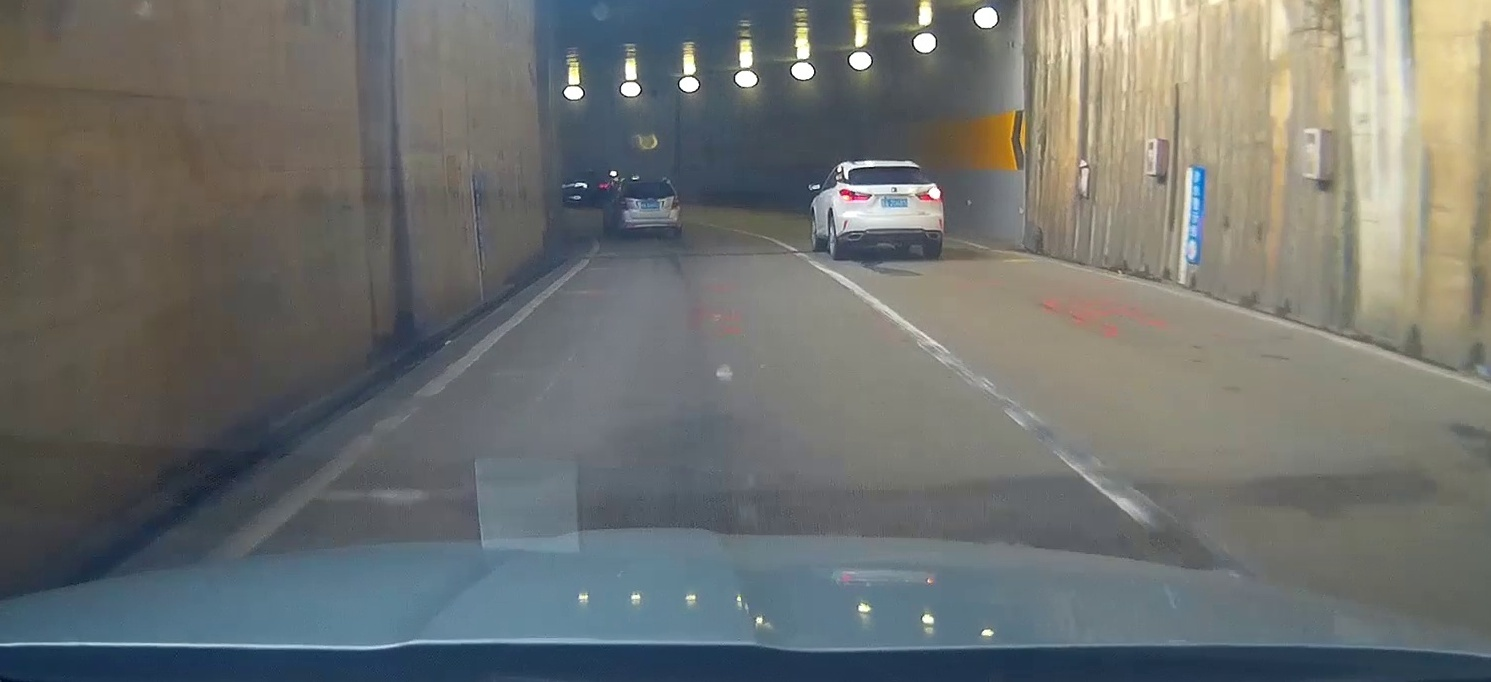L_light: (838, 189, 871, 201), (618, 199, 628, 210)
R_light: (916, 190, 941, 201), (671, 198, 679, 209)
T_light: (883, 167, 895, 169), (641, 182, 651, 183)
day-no: (617, 178, 681, 238)
day-right: (834, 162, 943, 259)
